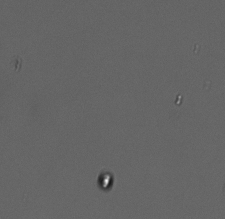Living Cell: (97, 169, 113, 192)
